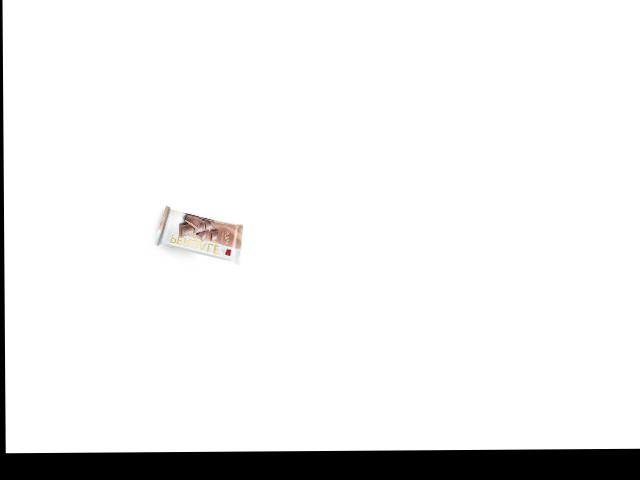chocolate: (161, 199, 243, 266)
